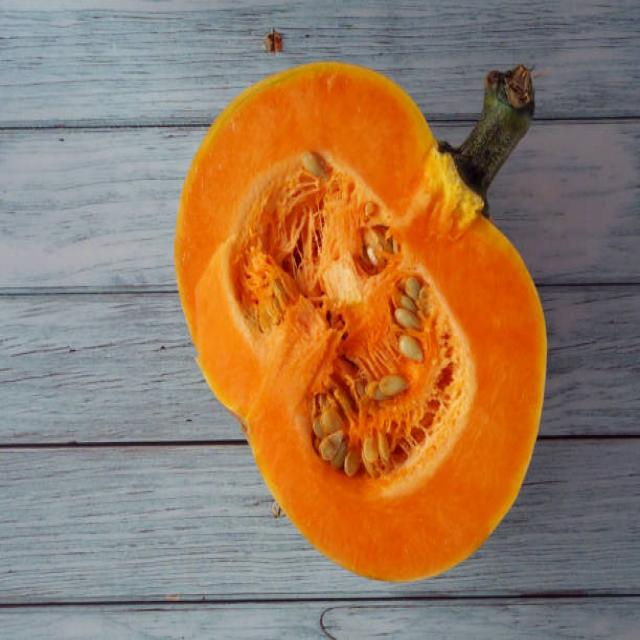Pumpkin: (170, 55, 549, 575)
